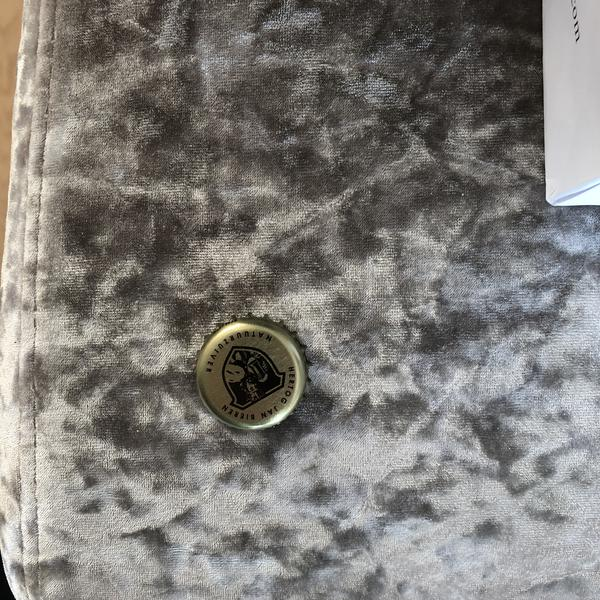hertogjan: (191, 312, 308, 435)
